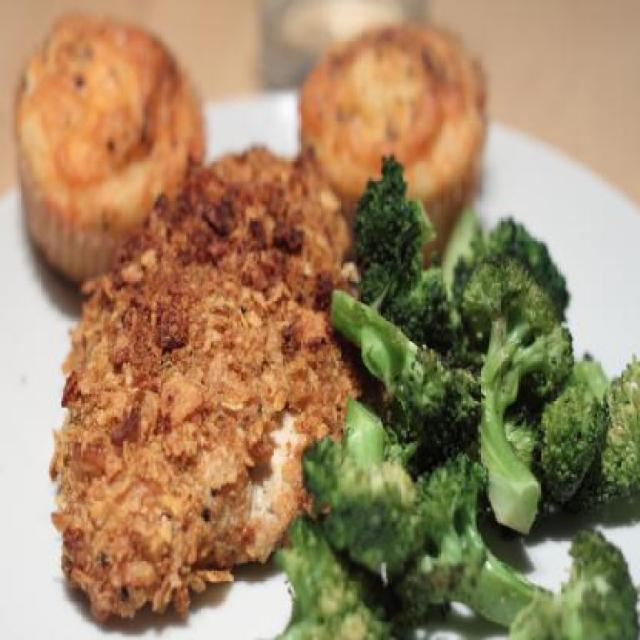Muffin: (15, 7, 208, 298), (291, 23, 489, 274)
